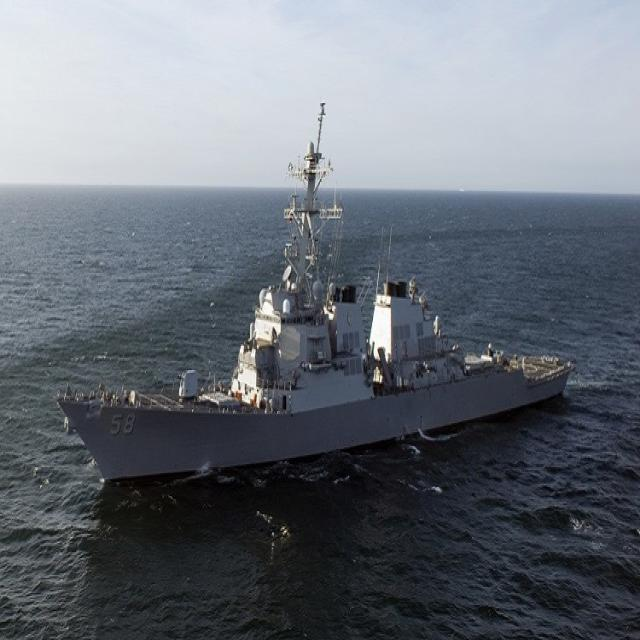navalvessels: (52, 112, 581, 487)
